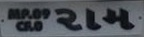character: (7, 8, 21, 19), (15, 20, 24, 32), (41, 8, 50, 19), (32, 8, 41, 18), (33, 21, 42, 31), (21, 8, 29, 19), (24, 21, 32, 31)
